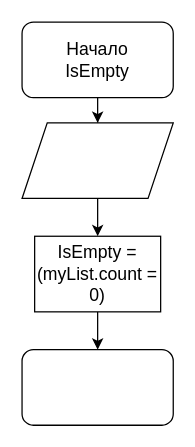
The diagram is 195 pixels wide and 447 high, and some of its shapes have lost their labels. Each missing label, with the box of its shape:
Ввести lst: (21, 122, 173, 198)
Конец IsEmpty: (21, 348, 173, 425)
